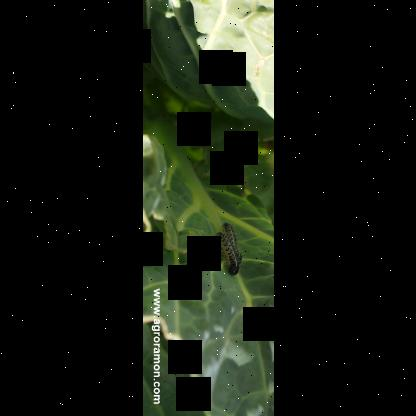oruga: (215, 234, 237, 276), (222, 223, 240, 270)
